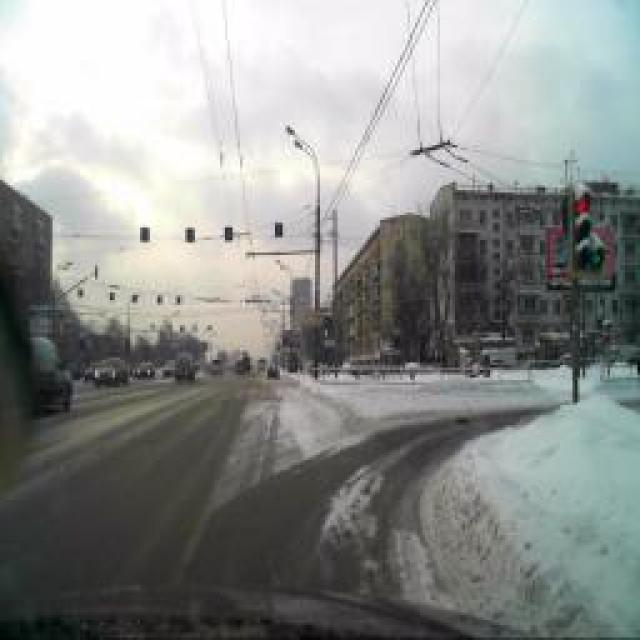sign: (311, 309, 324, 329)
